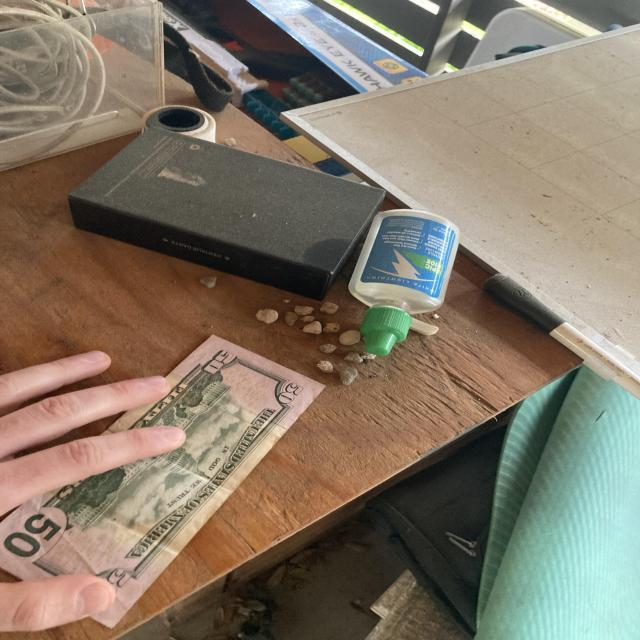fifty: (0, 335, 326, 628)
